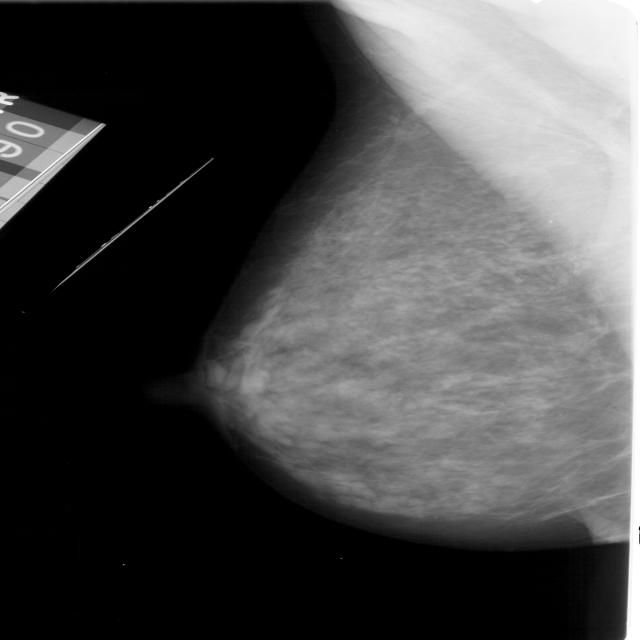normal: (148, 0, 640, 559)
